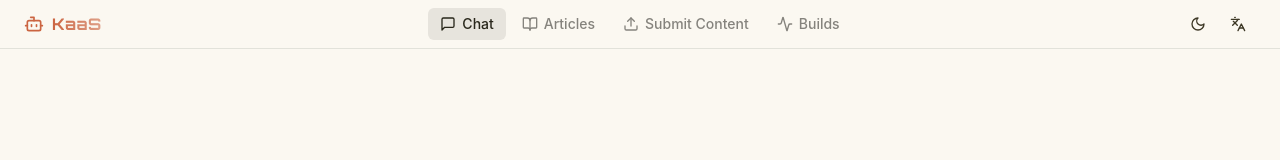
Test: AppLayout lang toggle › flips lang from en to zh on click
expect the link "Chat" is shown: met, box [428,8,506,40]
Click the button named "Switch language": [1238, 24] box [1220,6,1256,42]
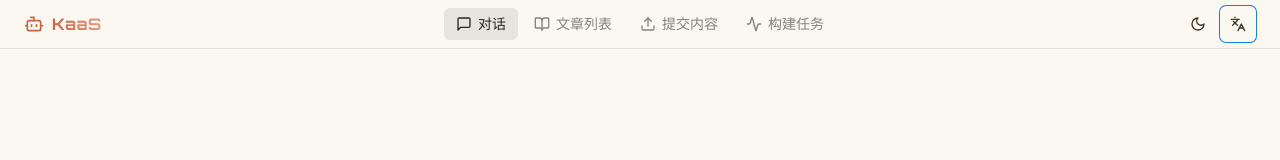
expect the link "对话" is shown: met, box [444,8,518,40]
